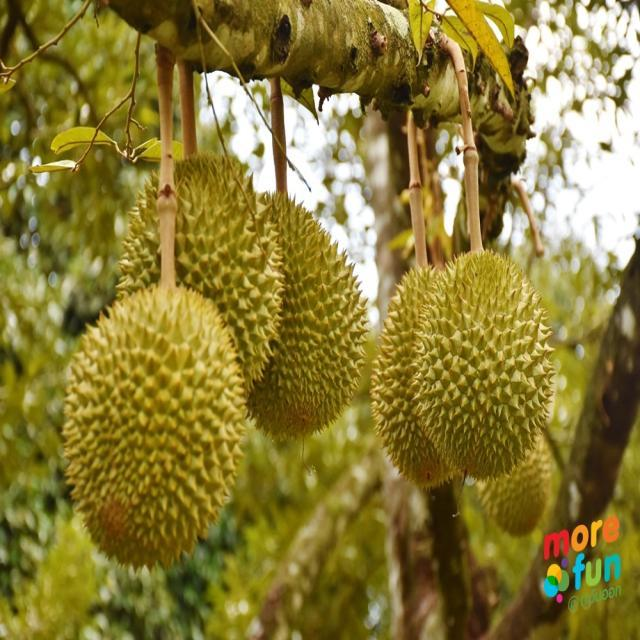mature: (59, 279, 247, 571), (110, 155, 284, 411), (228, 186, 368, 445), (412, 247, 554, 481)
